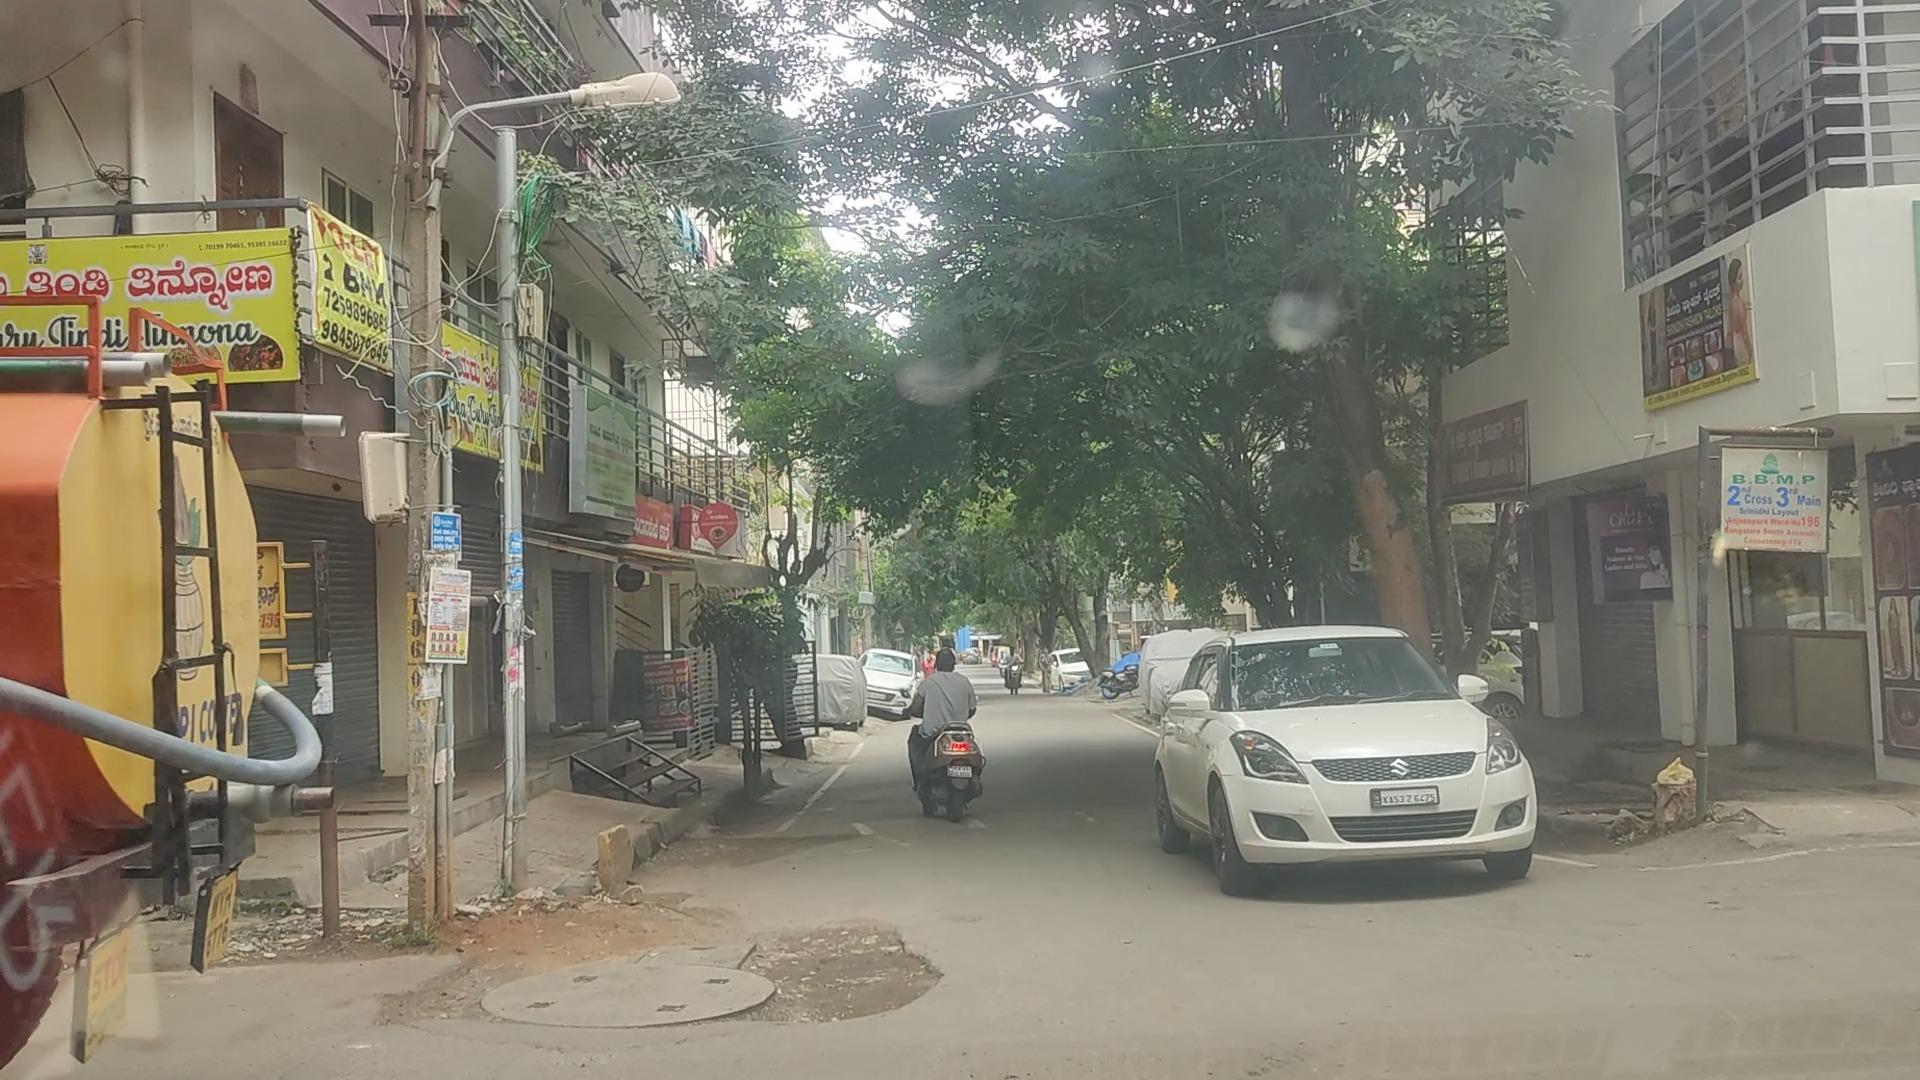LMV: (1139, 641, 1538, 894), (905, 658, 990, 820)
RoadDamages: (451, 914, 915, 1027)
